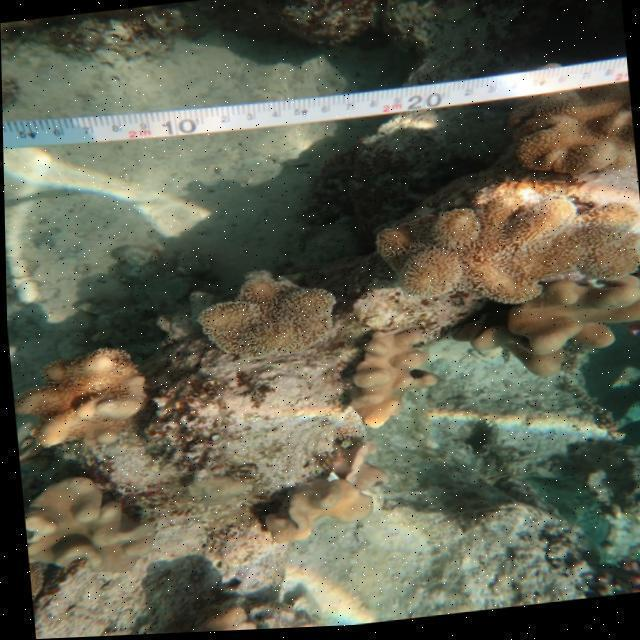Healthy Coral: (359, 180, 640, 319), (468, 274, 640, 390), (8, 339, 161, 457), (19, 464, 153, 591), (199, 263, 345, 369), (494, 87, 634, 191), (336, 322, 445, 435), (259, 471, 381, 555)
